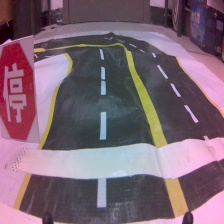stop: (1, 35, 40, 145)
